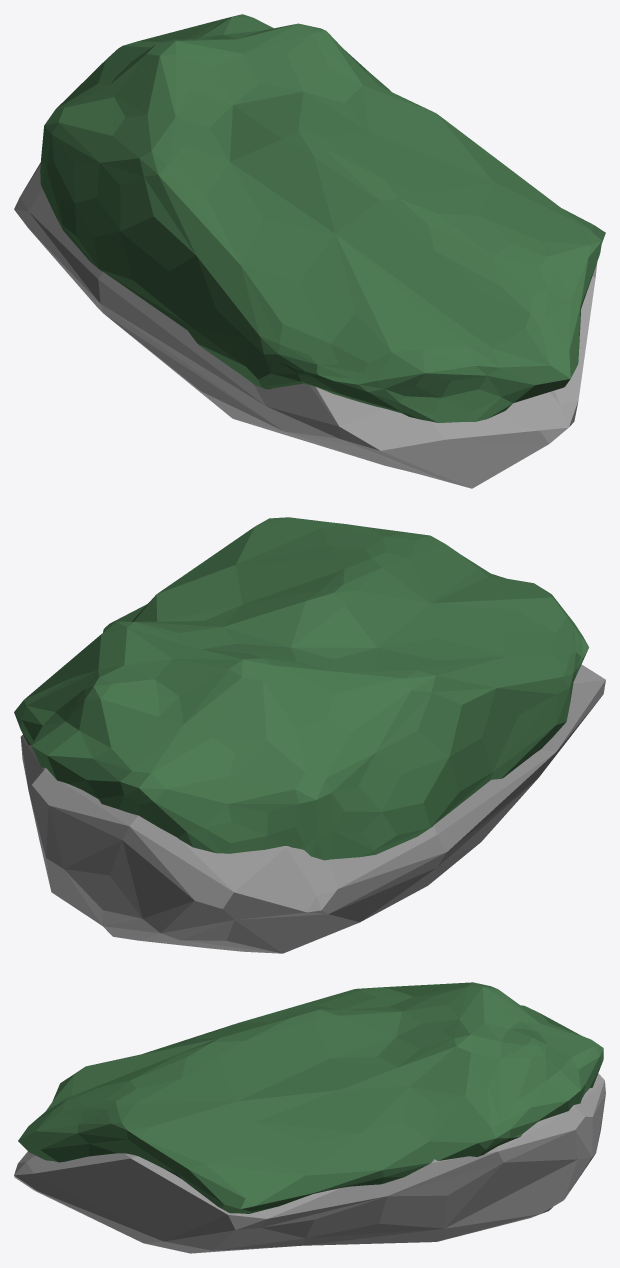
The model's file is Rock_019.glb.
The picture shows the model from 3 angles, top to bottom: view 1: azimuth 30°, elevation 25°; view 2: azimuth 150°, elevation 25°; view 3: azimuth 270°, elevation 25°; orthographic projection. The views are drawn at different scales.
Visible parts, largest first — view 1: Rock_019; view 2: Rock_019; view 3: Rock_019.
Part boxes in pixels (x1=…): Rock_019: x1=14, y1=14, x2=605, y2=488; Rock_019: x1=14, y1=517, x2=605, y2=953; Rock_019: x1=14, y1=982, x2=605, y2=1253.
Bounding box in the file's own units: 1.83 × 1.27 × 2.9.
1 material, 1 textured.
